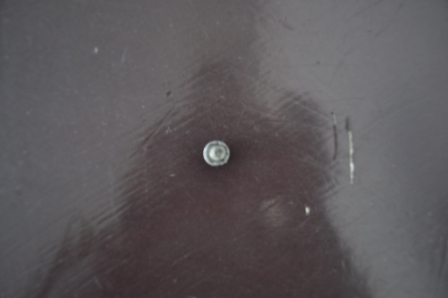NUT (MT): (202, 138, 233, 168)
